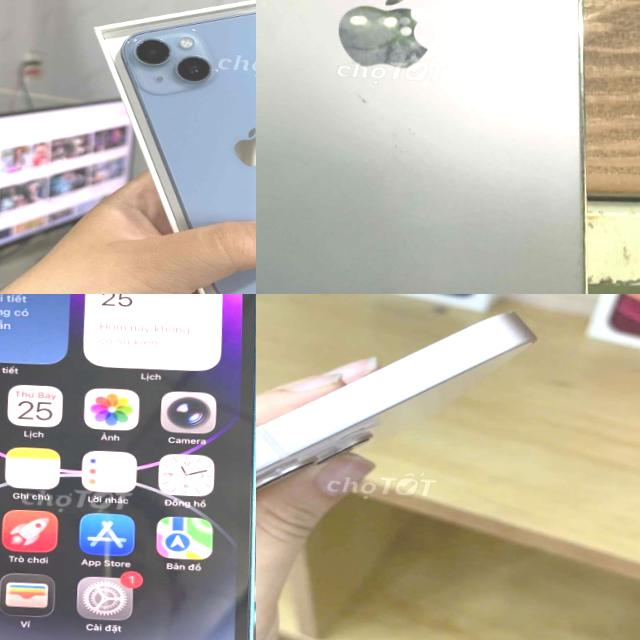gen_12_13: (0, 294, 256, 640), (256, 294, 542, 516)
gen_14: (256, 0, 623, 294), (113, 0, 256, 294)
